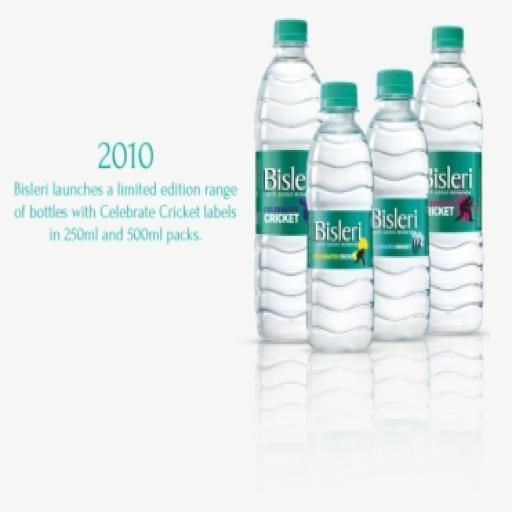bottle: (238, 4, 335, 352), (409, 11, 497, 338), (304, 76, 376, 360), (371, 51, 435, 351)
